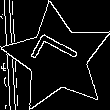L_SE: (28, 33, 87, 84)
